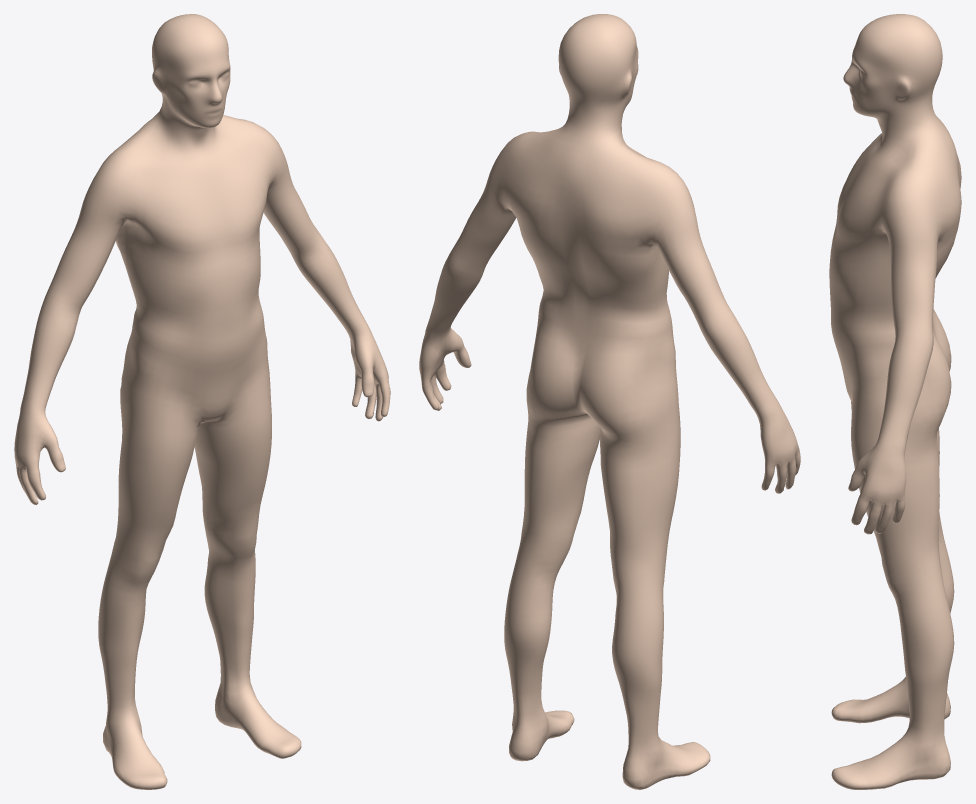
File: point.fbx
The picture shows the model from 3 angles, left to right: view 1: azimuth 30°, elevation 25°; view 2: azimuth 150°, elevation 25°; view 3: azimuth 270°, elevation 25°; orthographic projection.
Parts seen in each view (by area): view 1: humanBody; view 2: humanBody; view 3: humanBody.
Part boxes in pixels (x1,y1,x2,y2): humanBody: (14, 14, 390, 789); humanBody: (419, 14, 800, 789); humanBody: (829, 14, 961, 789).
Bounding box in the file's own units: 95.48 × 183 × 29.88.
